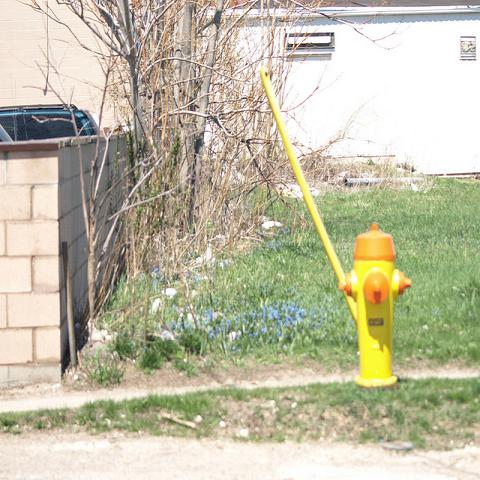car: (0, 104, 98, 142)
